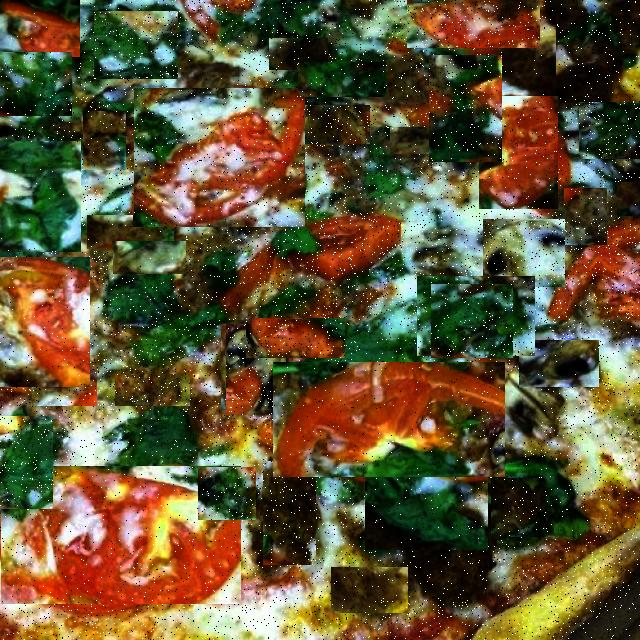Basil: (417, 276, 535, 356), (365, 478, 488, 552), (0, 142, 81, 254), (81, 4, 181, 90), (429, 55, 504, 162), (431, 284, 513, 358), (94, 11, 178, 79), (0, 416, 53, 509), (0, 52, 72, 116), (108, 412, 190, 466), (579, 102, 640, 159), (298, 62, 386, 97), (198, 467, 256, 520), (495, 461, 569, 498), (549, 511, 584, 538)
Beef: (556, 0, 640, 103), (263, 461, 316, 565), (498, 37, 576, 106), (420, 546, 490, 604), (332, 567, 409, 613), (32, 355, 97, 406), (491, 478, 546, 537), (88, 215, 176, 249), (164, 53, 238, 92), (302, 105, 370, 144), (83, 112, 126, 172), (564, 188, 607, 245), (116, 374, 192, 406), (270, 38, 330, 70), (390, 128, 446, 156), (617, 182, 640, 216)
Mushrooms: (221, 324, 289, 410), (483, 219, 565, 287), (226, 324, 286, 415), (519, 340, 599, 387), (113, 241, 186, 274), (504, 375, 540, 439), (438, 139, 474, 178)
Pizza: (0, 0, 640, 640)
Tomato: (1, 466, 241, 604), (273, 362, 505, 477), (134, 88, 305, 227), (226, 214, 402, 304), (0, 257, 90, 387), (479, 96, 558, 209), (552, 219, 640, 318), (407, 0, 540, 48), (0, 0, 80, 57), (246, 318, 345, 358)
